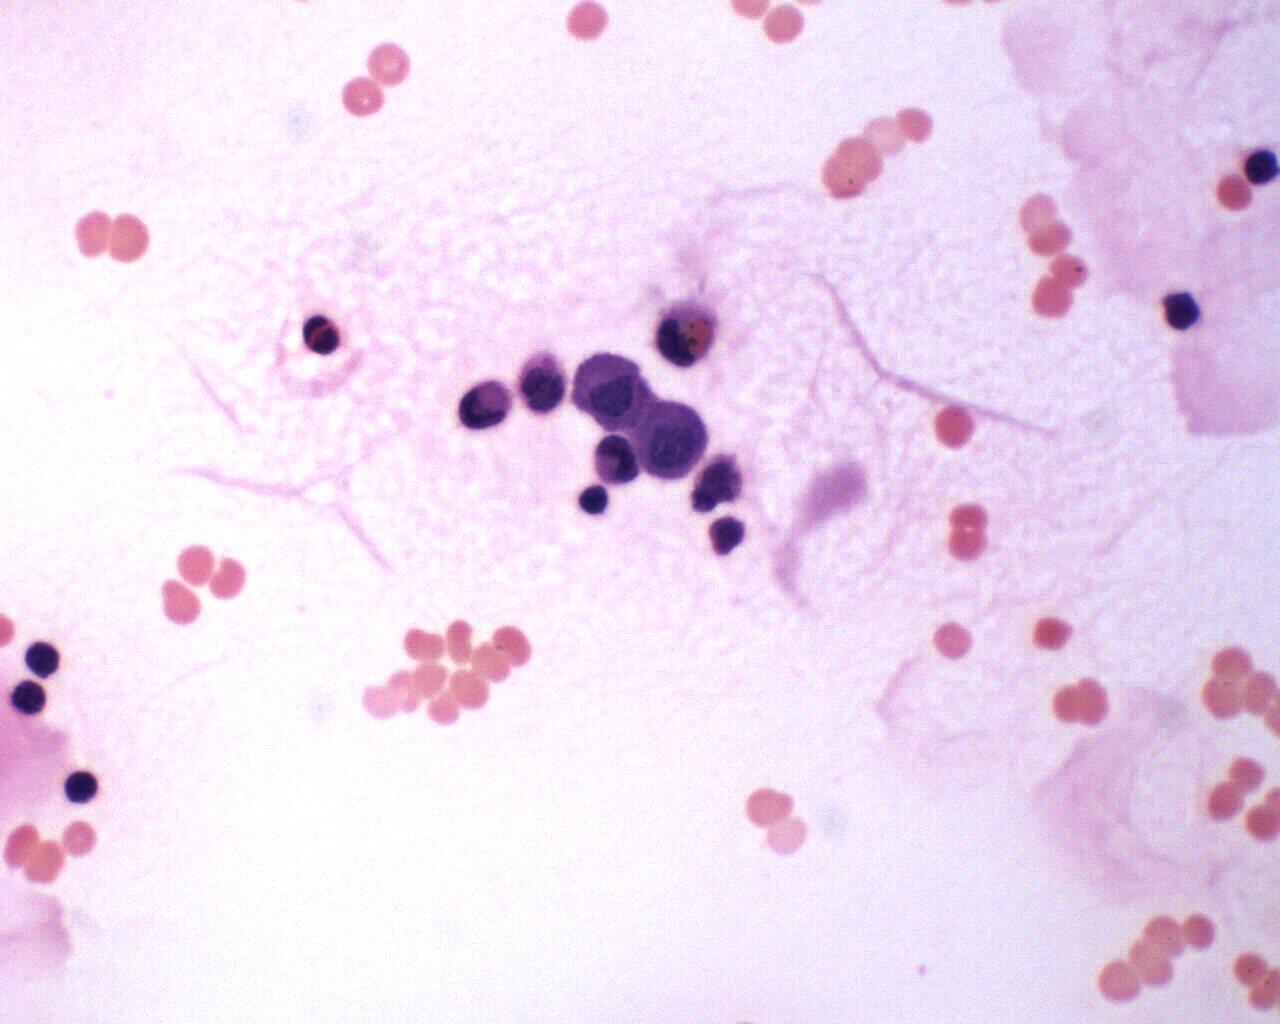ab: (636, 396, 715, 478), (572, 350, 647, 430)
lymph: (57, 761, 104, 811), (579, 483, 613, 520)
